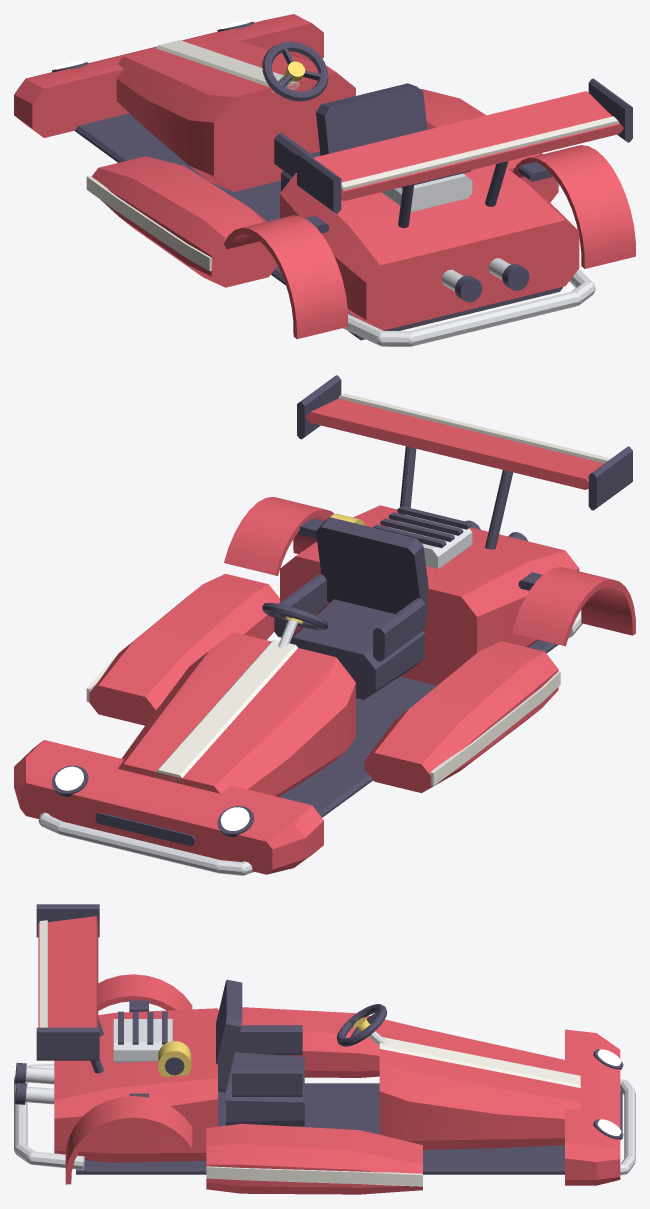
The model's file is kart_body.glb.
3 renders of one model, top to bottom at view 1: azimuth 30°, elevation 25°; view 2: azimuth 150°, elevation 25°; view 3: azimuth 270°, elevation 25°, orthographic. The views are drawn at different scales.
Parts seen in each view (by area): view 1: body_paint, body_trim, body_chrome, body_stripe; view 2: body_paint, body_trim, body_stripe, body_chrome, body_lamp; view 3: body_paint, body_trim, body_stripe, body_chrome, body_accent, body_lamp.
Part boxes in pixels (x1,y1,x2,y2): body_paint: [14, 14, 635, 339]; body_trim: [52, 21, 632, 340]; body_chrome: [278, 74, 595, 346]; body_stripe: [86, 40, 618, 271]; body_paint: [14, 398, 635, 874]; body_trim: [51, 375, 632, 846]; body_stripe: [86, 393, 610, 785]; body_chrome: [38, 515, 582, 875]; body_lamp: [55, 766, 249, 830]; body_paint: [38, 916, 620, 1194]; body_trim: [15, 904, 623, 1174]; body_stripe: [39, 920, 580, 1186]; body_chrome: [14, 1019, 635, 1175]; body_accent: [158, 1017, 370, 1076]; body_lamp: [597, 1049, 621, 1135].
Size of the model in its own units: 1.82 by 0.93 by 3.16.
